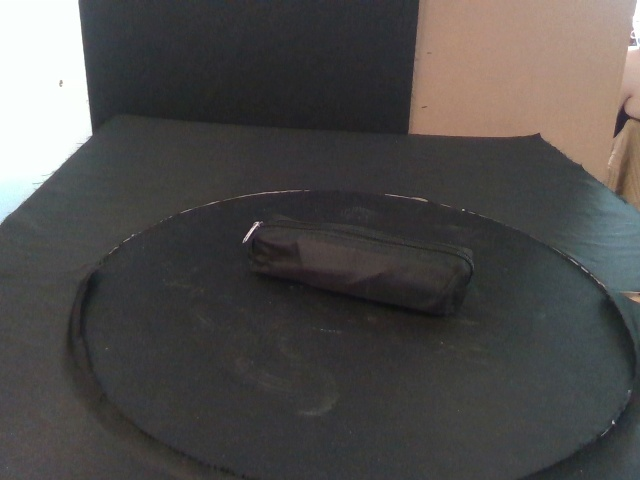pencil_case: (244, 212, 477, 318)
